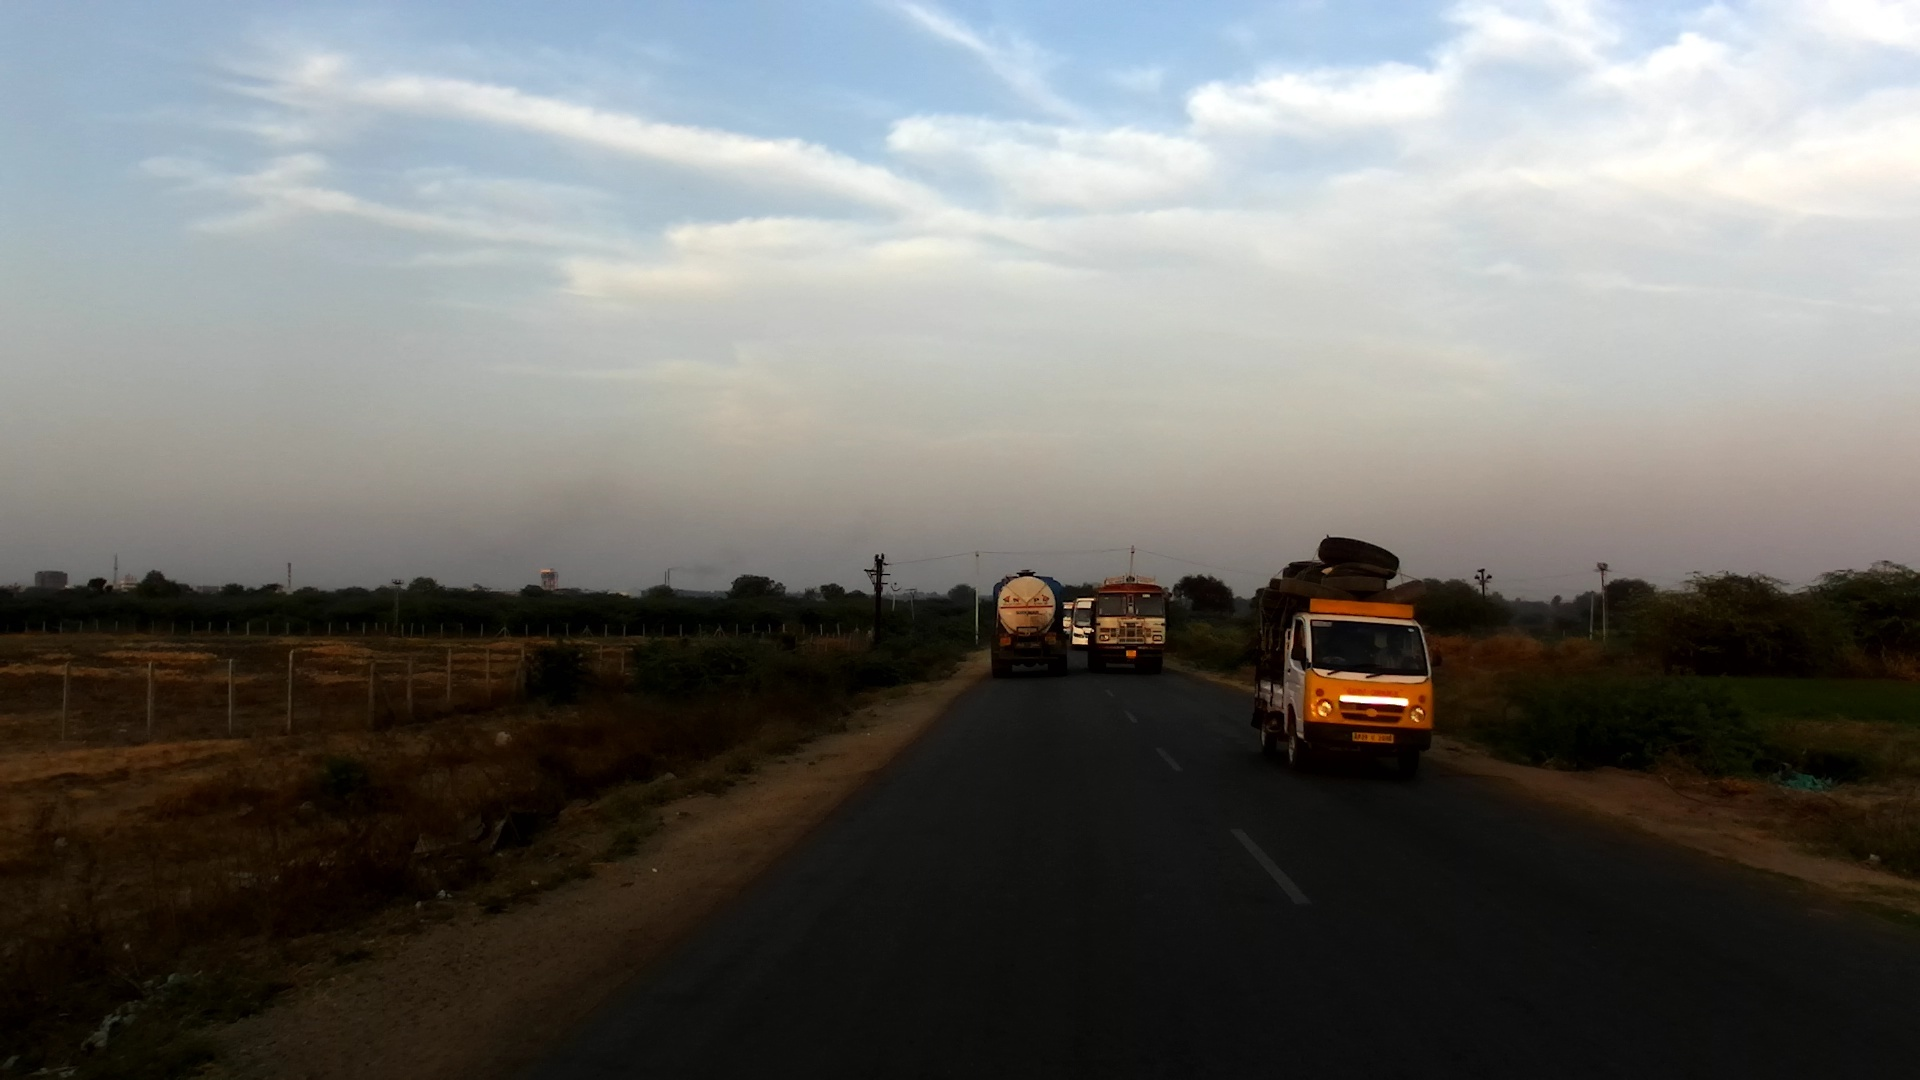bus: (1067, 592, 1101, 657), (1058, 601, 1077, 646)
truck: (1251, 535, 1441, 785), (984, 564, 1069, 676), (1088, 574, 1170, 673)
